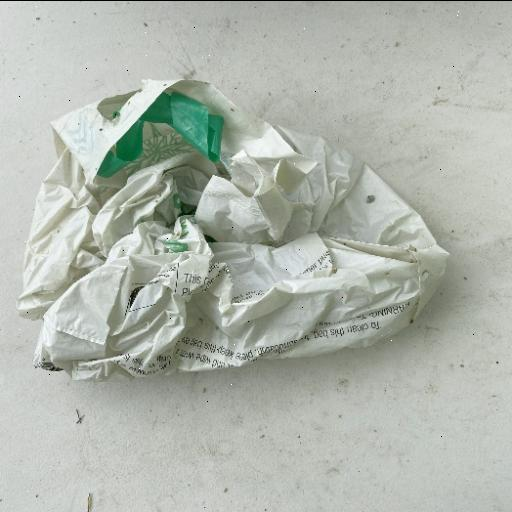Plastic: (16, 76, 450, 383)
